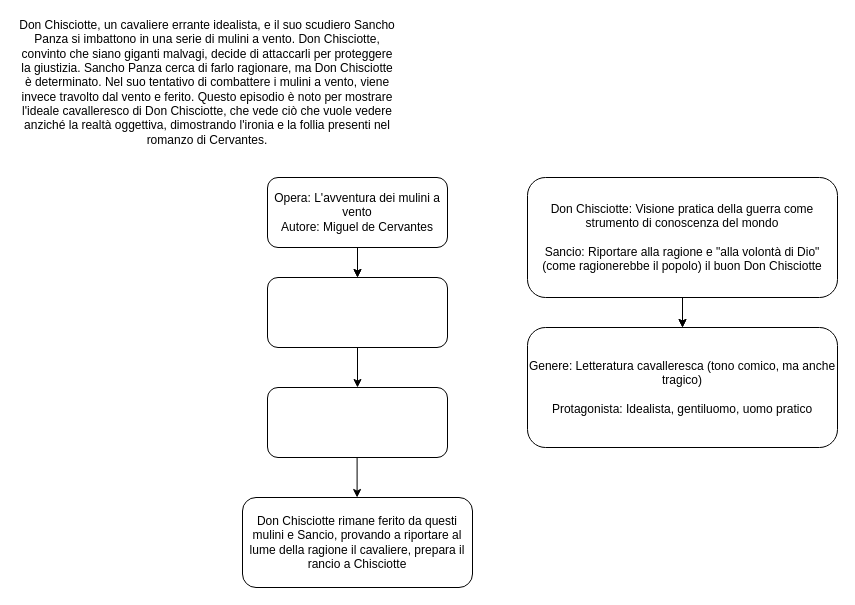
This 855x605 diagram has some shape labels left out. The shapes that lost their labels are listed below. From the top down, each one's centre as x and y in pixels, then its label:
At point 357,312: "Protagonisti: Don Chisciotte Sancio Panza".
At point 357,422: "Lotta di Don Chisciotte contro i mulini a vento visti come giganti".
